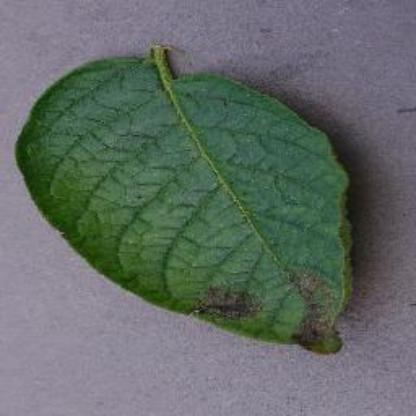Late-Blight: (16, 42, 362, 356)
